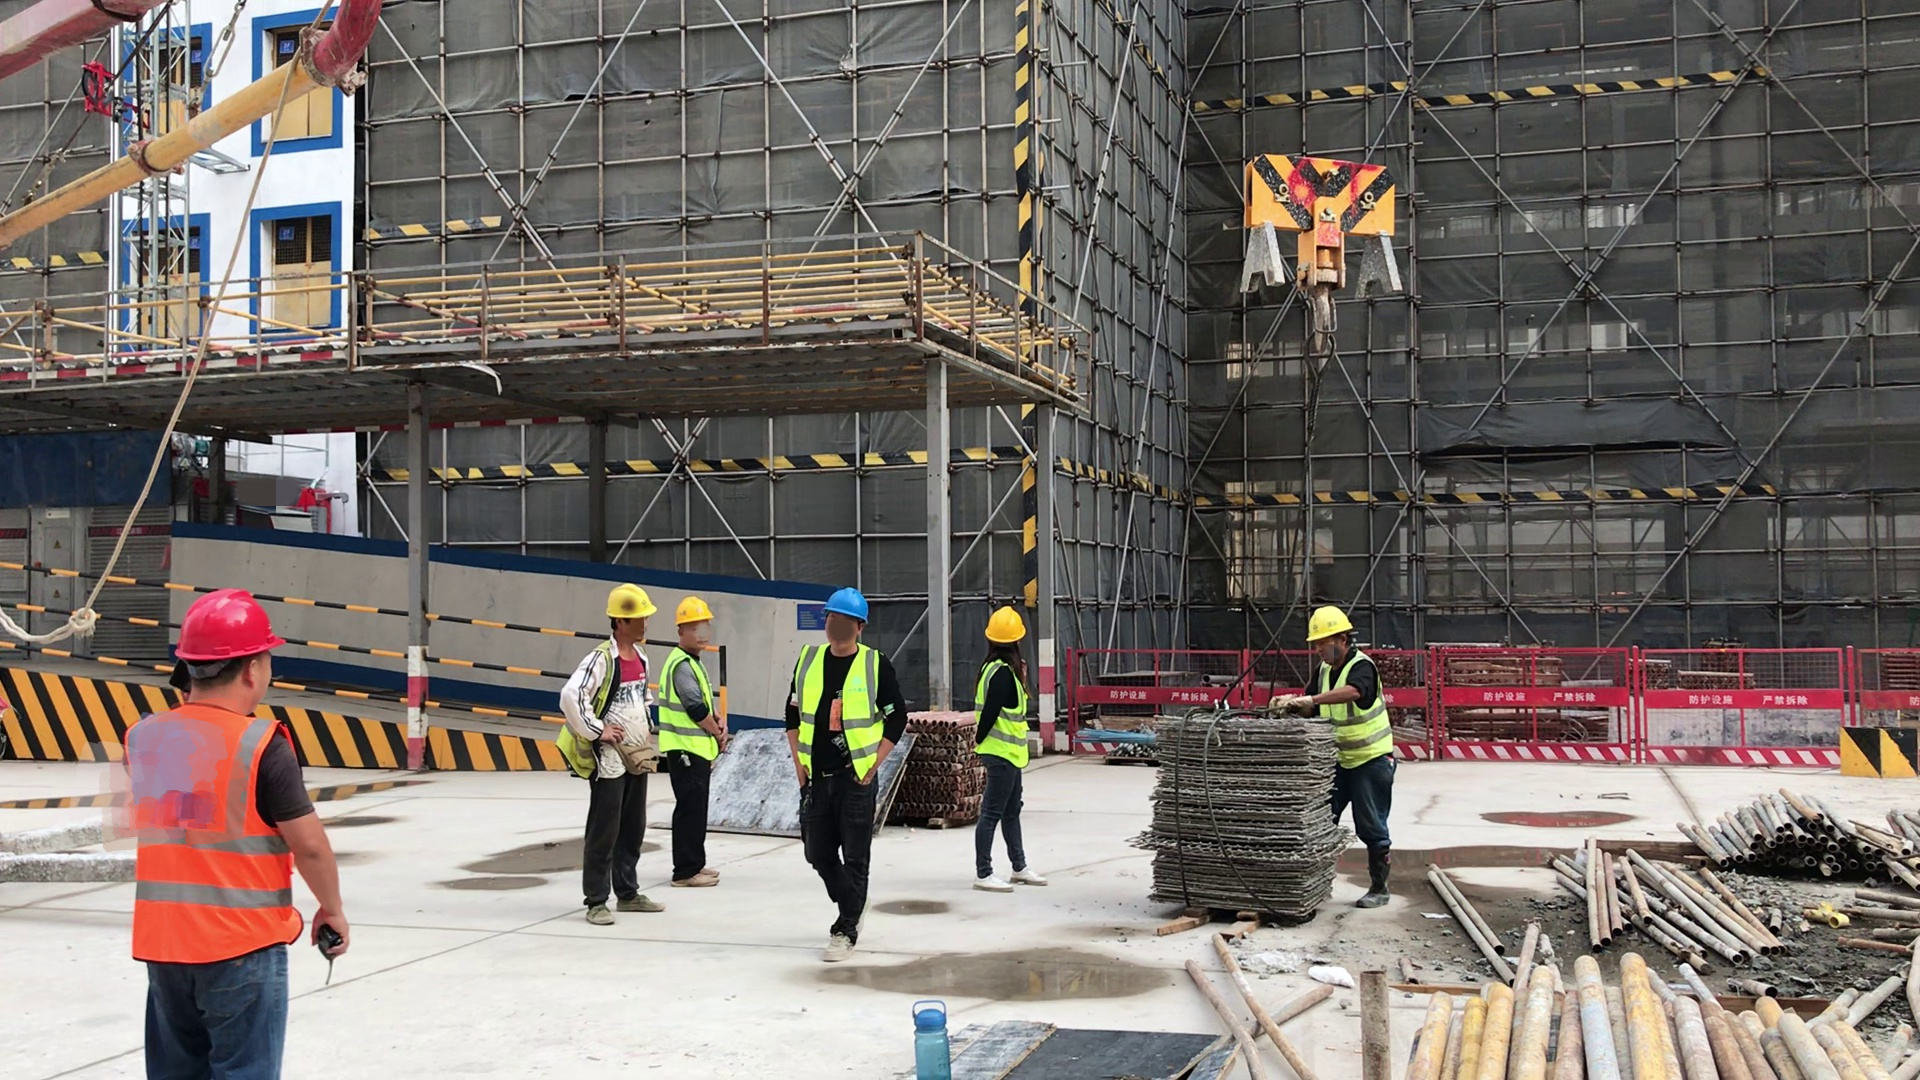fence: (1065, 649, 1920, 771)
helmet: (173, 592, 282, 658), (1305, 604, 1354, 642), (821, 585, 870, 622), (608, 584, 654, 623), (983, 606, 1027, 642), (675, 597, 715, 624)
hook: (1242, 151, 1404, 365)
person: (124, 591, 349, 1080), (785, 587, 908, 965), (556, 582, 667, 928), (1268, 605, 1394, 909), (969, 605, 1050, 894), (659, 595, 719, 887)
scaffold: (1150, 710, 1336, 922), (900, 711, 981, 830)
vest: (127, 706, 298, 958), (792, 641, 882, 781), (1311, 653, 1394, 768), (656, 645, 717, 757), (971, 661, 1031, 769)
